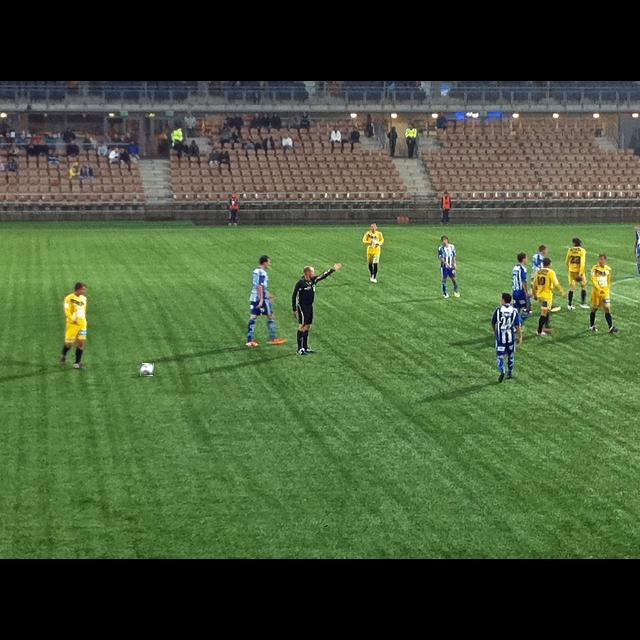Football: (140, 364, 154, 376)
